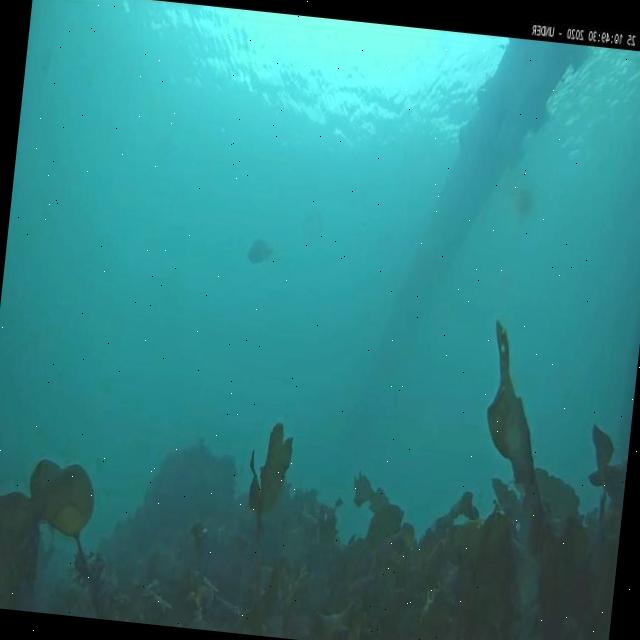fish: (244, 234, 275, 272)
